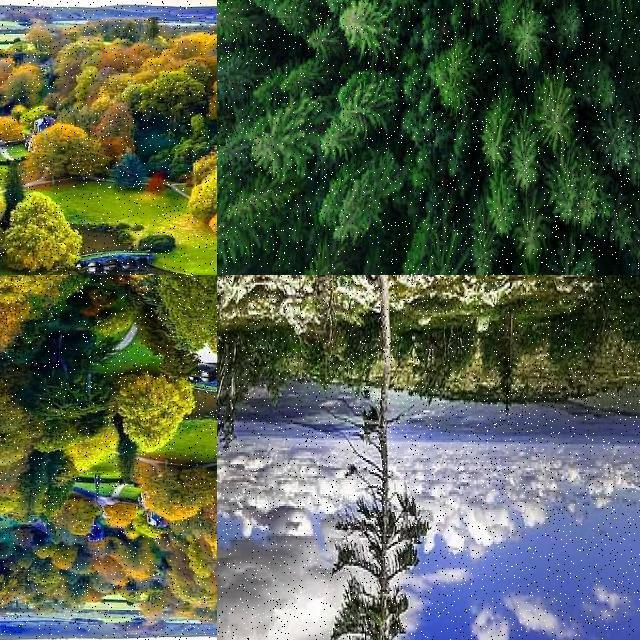tree: (324, 350, 436, 640), (126, 274, 218, 362), (112, 371, 194, 455), (30, 332, 106, 421), (0, 189, 80, 273), (0, 275, 100, 333), (65, 276, 217, 312), (0, 276, 58, 364), (147, 112, 217, 182), (138, 72, 206, 140), (0, 152, 42, 262), (0, 382, 42, 492), (0, 361, 42, 471), (142, 459, 214, 521), (29, 123, 100, 185), (0, 276, 84, 328), (12, 452, 72, 524), (0, 173, 42, 275), (0, 275, 56, 343), (340, 1, 400, 64), (532, 62, 572, 156), (0, 360, 30, 468), (0, 288, 48, 352), (0, 175, 30, 275), (338, 0, 392, 54), (0, 333, 44, 399), (268, 1, 340, 40), (0, 276, 78, 312), (0, 114, 42, 174), (0, 470, 42, 530), (480, 87, 510, 167), (508, 109, 536, 193), (104, 418, 136, 486), (0, 119, 30, 191), (599, 111, 633, 173), (483, 165, 513, 235), (50, 495, 101, 535), (104, 143, 148, 189), (604, 0, 640, 56), (0, 223, 38, 275), (526, 0, 566, 48), (386, 0, 418, 60), (422, 1, 471, 40), (506, 0, 540, 56), (603, 0, 640, 50), (112, 533, 156, 575), (1, 70, 44, 110), (192, 166, 216, 236), (406, 1, 449, 40), (564, 232, 600, 276), (556, 0, 584, 56), (1, 158, 23, 226), (0, 244, 44, 276), (221, 0, 271, 28), (541, 0, 571, 44), (572, 1, 602, 44), (478, 0, 507, 40), (0, 111, 28, 151), (0, 493, 28, 533), (18, 28, 52, 60), (463, 0, 497, 32), (131, 584, 165, 616), (349, 0, 383, 30), (509, 0, 538, 34), (0, 109, 24, 149), (580, 0, 608, 34), (417, 0, 447, 28), (449, 0, 473, 32), (481, 1, 503, 32), (474, 0, 498, 28), (512, 0, 534, 28), (436, 0, 452, 36), (418, 1, 444, 23)
